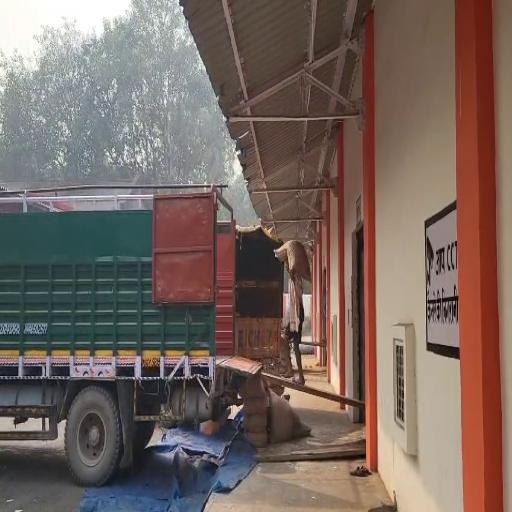bag: (274, 236, 312, 283)
